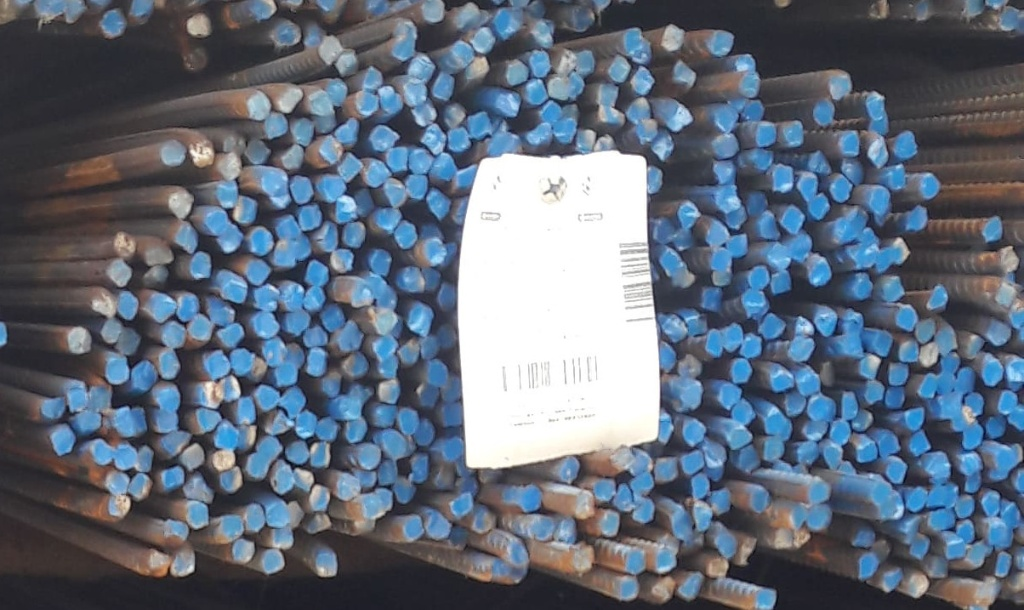dipstick: (114, 408, 146, 437), (442, 40, 473, 68), (241, 136, 273, 163), (806, 393, 835, 422), (423, 512, 452, 540), (370, 332, 400, 359), (494, 7, 520, 38), (594, 101, 626, 126), (289, 174, 313, 207), (787, 332, 814, 361), (715, 182, 741, 212), (280, 309, 310, 335), (49, 424, 73, 456), (318, 135, 345, 163), (666, 513, 694, 540), (321, 80, 350, 106), (804, 259, 833, 285), (421, 124, 446, 154), (274, 217, 304, 242), (629, 64, 653, 95), (470, 504, 493, 536), (399, 79, 426, 106), (891, 132, 918, 159), (407, 56, 435, 82), (378, 432, 406, 458), (198, 379, 224, 407), (160, 140, 189, 165), (866, 187, 891, 216), (65, 328, 94, 353), (215, 319, 244, 344), (806, 503, 831, 532), (450, 3, 480, 27), (377, 90, 407, 114), (410, 304, 434, 334), (706, 30, 733, 56), (670, 64, 697, 90), (318, 174, 344, 201), (106, 259, 133, 285), (103, 357, 130, 383), (264, 168, 291, 194), (837, 128, 862, 156), (840, 154, 865, 182), (805, 194, 833, 219), (170, 226, 198, 251), (115, 292, 139, 321), (145, 298, 174, 322), (813, 309, 837, 338), (894, 303, 918, 332), (368, 125, 398, 148), (239, 504, 262, 534), (729, 355, 752, 385), (144, 242, 174, 265), (358, 440, 380, 471), (260, 112, 286, 138), (652, 132, 678, 158), (202, 351, 228, 377), (104, 467, 130, 493), (471, 26, 496, 53), (769, 167, 794, 194), (407, 145, 432, 172), (337, 322, 362, 349), (390, 474, 415, 501), (678, 420, 705, 445), (768, 365, 793, 392), (702, 442, 727, 469), (162, 521, 189, 546), (274, 88, 302, 112), (519, 80, 547, 104), (781, 205, 805, 233), (702, 223, 726, 251), (423, 241, 447, 269), (194, 406, 222, 430), (248, 227, 271, 256), (201, 211, 230, 234), (702, 328, 725, 357), (291, 117, 313, 147), (157, 348, 179, 378), (250, 315, 280, 337), (866, 136, 888, 166), (305, 92, 336, 113), (551, 117, 577, 142), (677, 200, 702, 226), (183, 500, 209, 525), (370, 311, 396, 336), (676, 381, 702, 406), (244, 92, 268, 119), (501, 61, 528, 85), (628, 98, 655, 122), (384, 145, 408, 172), (132, 361, 156, 388), (265, 498, 289, 525), (679, 573, 703, 600), (570, 546, 594, 573), (881, 492, 905, 519), (828, 71, 851, 99), (717, 104, 740, 132), (241, 260, 269, 283), (397, 267, 425, 290), (113, 443, 135, 472), (403, 174, 428, 199), (214, 423, 239, 448), (342, 354, 367, 379), (516, 484, 541, 509), (685, 473, 710, 498), (41, 396, 66, 421), (389, 37, 415, 61), (189, 139, 213, 165), (128, 474, 152, 500), (312, 553, 338, 577), (373, 330, 397, 356), (260, 338, 284, 364), (284, 439, 310, 463), (281, 388, 307, 412), (423, 364, 449, 388), (412, 421, 436, 447), (271, 467, 295, 493), (439, 437, 463, 463), (589, 477, 615, 501), (659, 246, 683, 272), (926, 455, 950, 481), (318, 34, 341, 61), (744, 288, 767, 315), (242, 454, 269, 477), (234, 197, 257, 224), (925, 284, 948, 311), (698, 289, 726, 311), (397, 220, 418, 249), (150, 409, 179, 430), (466, 113, 490, 138), (427, 192, 451, 217), (173, 293, 197, 318), (162, 322, 187, 346), (170, 191, 194, 216), (221, 225, 241, 255), (620, 548, 645, 572), (781, 390, 806, 414), (715, 382, 739, 407), (77, 411, 101, 436), (662, 316, 687, 340), (756, 214, 781, 238), (547, 75, 573, 98), (189, 254, 212, 280), (308, 485, 331, 511), (416, 380, 439, 406), (670, 105, 693, 131), (305, 348, 327, 375), (186, 14, 213, 36), (529, 48, 550, 76), (372, 247, 393, 275), (447, 127, 471, 151), (257, 437, 281, 461), (361, 65, 384, 90), (364, 161, 389, 184), (652, 547, 677, 570), (655, 458, 680, 481), (761, 437, 784, 462), (937, 395, 962, 418), (221, 279, 246, 302), (273, 362, 298, 385), (787, 233, 810, 258), (418, 2, 444, 24), (433, 72, 455, 98), (622, 29, 644, 55), (154, 387, 180, 409), (261, 548, 283, 574), (181, 443, 203, 469), (256, 385, 278, 411), (615, 572, 637, 598), (759, 315, 785, 337), (117, 328, 139, 354), (635, 115, 656, 142), (281, 280, 302, 307), (599, 509, 620, 536), (928, 509, 955, 530), (162, 431, 189, 452), (103, 13, 126, 37), (354, 89, 377, 113), (812, 98, 835, 122), (540, 100, 563, 124), (254, 286, 278, 309), (375, 379, 399, 402), (681, 449, 705, 472), (744, 488, 768, 511), (678, 353, 701, 377), (834, 217, 858, 240), (145, 553, 169, 576), (744, 191, 768, 214), (692, 501, 711, 530), (981, 217, 1003, 242), (89, 442, 114, 464), (752, 588, 777, 610), (830, 419, 852, 444), (882, 277, 904, 302), (852, 243, 874, 268), (529, 22, 555, 43), (339, 153, 360, 179), (331, 248, 352, 274), (173, 552, 199, 573), (740, 332, 761, 358), (89, 384, 110, 410), (133, 445, 154, 471), (661, 24, 681, 51), (223, 466, 243, 493), (802, 419, 829, 439), (891, 237, 911, 264), (1004, 502, 1024, 529), (221, 515, 244, 538), (295, 205, 318, 228), (736, 448, 759, 471), (850, 409, 873, 432), (333, 474, 355, 498), (293, 411, 315, 435), (855, 556, 877, 580), (768, 414, 790, 438), (884, 386, 906, 410), (909, 431, 931, 455), (283, 343, 305, 367), (272, 24, 297, 45), (608, 56, 629, 81), (714, 134, 735, 159), (373, 209, 398, 230), (958, 454, 983, 475), (723, 322, 741, 351), (839, 391, 857, 420), (362, 495, 388, 515), (852, 273, 872, 299), (885, 457, 905, 483), (741, 72, 760, 99), (407, 454, 426, 481), (573, 52, 595, 75), (109, 495, 131, 518), (229, 352, 252, 374), (235, 400, 258, 422), (840, 333, 862, 356), (321, 305, 343, 328), (306, 513, 329, 535), (985, 415, 1007, 438), (984, 522, 1007, 544), (921, 172, 939, 200), (782, 121, 803, 145), (305, 262, 329, 283), (352, 281, 376, 302), (628, 474, 652, 495), (807, 478, 831, 499), (731, 402, 755, 423), (982, 361, 1003, 385), (207, 303, 232, 323), (935, 329, 955, 354), (884, 568, 904, 593), (234, 536, 253, 562), (559, 456, 578, 482), (997, 246, 1016, 272), (909, 534, 928, 560), (712, 489, 731, 515), (287, 500, 304, 529), (317, 417, 339, 439), (993, 448, 1015, 470), (797, 373, 819, 395), (867, 94, 888, 117), (755, 123, 776, 146), (748, 264, 771, 285), (303, 288, 324, 311), (339, 395, 362, 416), (343, 419, 366, 440), (876, 433, 899, 454), (162, 466, 183, 489), (989, 322, 1010, 345), (751, 150, 774, 171), (343, 224, 363, 248), (398, 406, 418, 430), (532, 518, 556, 538), (925, 557, 949, 577), (905, 206, 927, 227), (770, 245, 791, 267), (281, 148, 303, 169), (798, 440, 819, 462), (888, 362, 909, 384), (272, 244, 294, 265), (321, 373, 342, 395), (713, 161, 736, 181), (504, 543, 527, 563), (964, 392, 984, 415), (928, 484, 948, 507), (955, 495, 975, 518), (272, 526, 292, 549), (799, 172, 818, 196), (402, 515, 421, 539), (994, 552, 1013, 576), (873, 330, 891, 355), (919, 374, 937, 399), (832, 177, 850, 202), (999, 390, 1017, 415), (219, 182, 236, 208), (65, 388, 86, 409), (449, 493, 470, 514), (809, 153, 831, 173), (714, 535, 736, 555), (862, 381, 884, 401), (822, 444, 842, 466), (956, 522, 976, 544), (376, 286, 396, 308), (100, 321, 122, 341), (855, 442, 878, 461), (965, 335, 984, 358), (116, 233, 135, 256), (916, 318, 935, 341), (305, 327, 329, 345), (920, 343, 938, 367), (983, 490, 1001, 514), (209, 451, 234, 468), (886, 169, 907, 189), (899, 339, 919, 360), (852, 527, 873, 547), (842, 313, 862, 334), (743, 101, 764, 121), (728, 235, 749, 255), (725, 426, 747, 445), (861, 355, 880, 377), (907, 488, 926, 510), (909, 573, 927, 596), (711, 248, 731, 268), (707, 556, 728, 575), (870, 482, 891, 501), (958, 368, 976, 390), (965, 426, 982, 449), (770, 273, 789, 293), (150, 265, 170, 284), (790, 505, 808, 526), (907, 408, 924, 430), (873, 540, 891, 560), (969, 546, 986, 567), (963, 475, 982, 493), (736, 54, 755, 72), (937, 372, 954, 392), (946, 541, 966, 558), (941, 352, 958, 371)
